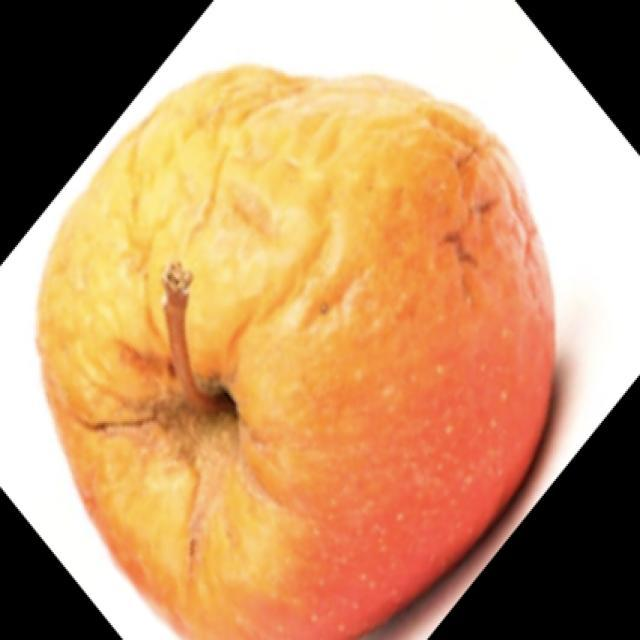Rotten: (60, 73, 567, 622)
